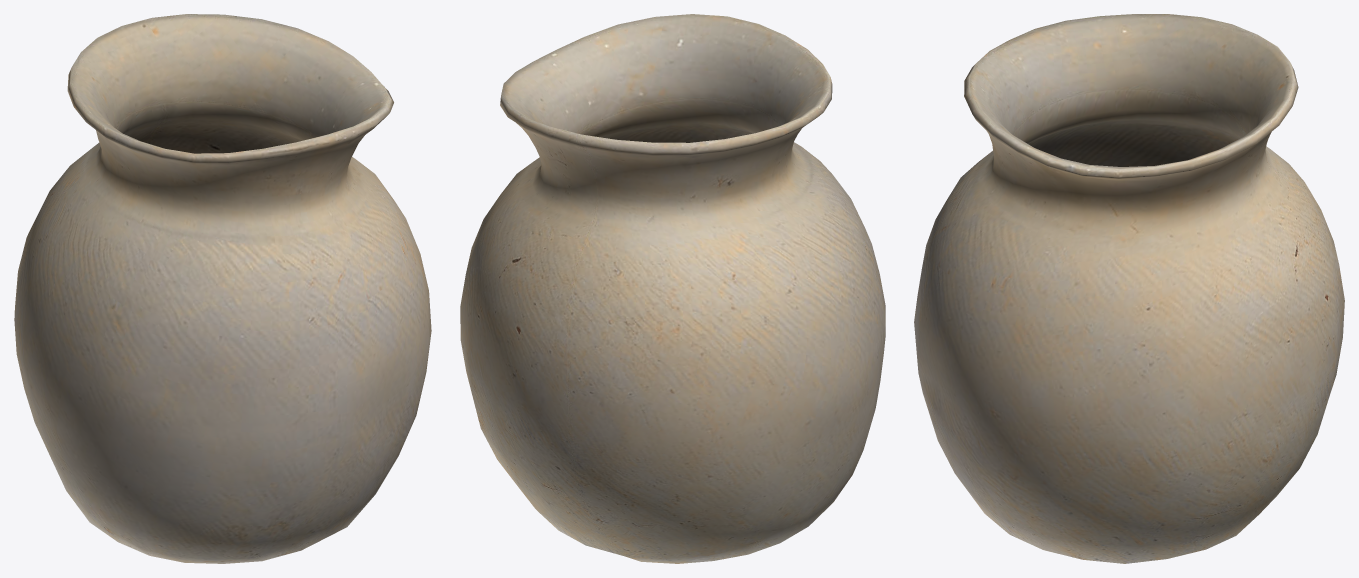
The model's file is antiquity3_31.fbx.
3 views of the same model, side by side, from view 1: azimuth 30°, elevation 25°; view 2: azimuth 150°, elevation 25°; view 3: azimuth 270°, elevation 25° (orthographic).
Parts seen in each view (by area): view 1: Low1_Group26640; view 2: Low1_Group26640; view 3: Low1_Group26640.
Part boxes in pixels (x1,y1,x2,y2): Low1_Group26640: (14,14,431,563); Low1_Group26640: (460,14,885,563); Low1_Group26640: (914,14,1344,563).
Size of the model in its own units: 33.25 by 39.6 by 33.94.
1 material, 1 textured.
